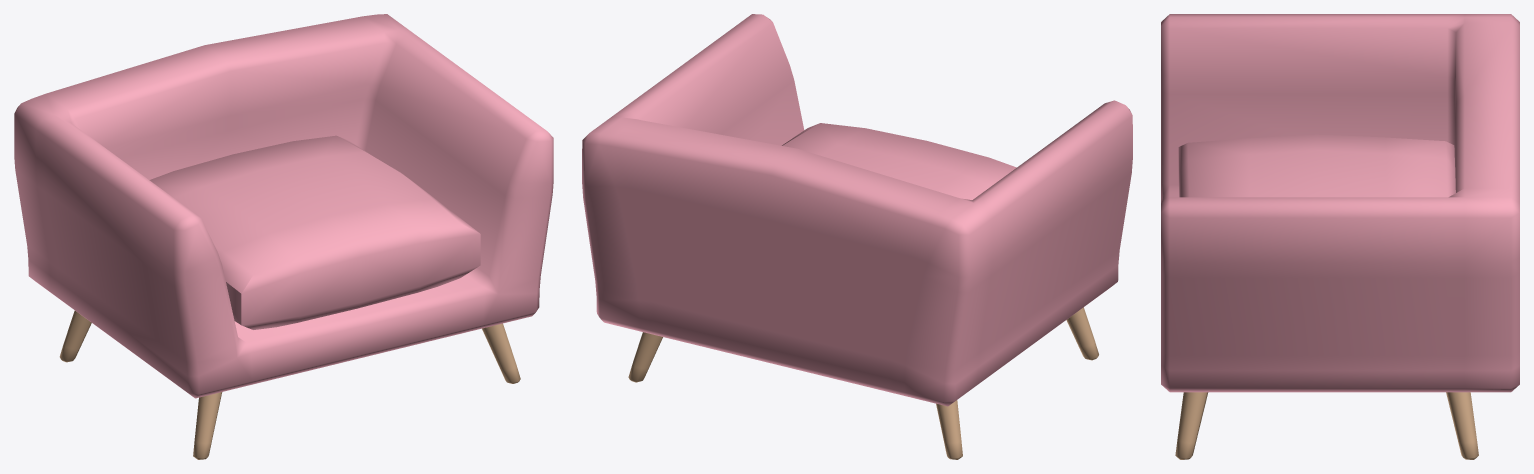
The model's file is couch-small.glb.
3 renders of one model, left to right at view 1: azimuth 30°, elevation 25°; view 2: azimuth 150°, elevation 25°; view 3: azimuth 270°, elevation 25°, orthographic. The views are drawn at different scales.
Parts seen in each view (by area): view 1: Couch_Small1; view 2: Couch_Small1; view 3: Couch_Small1.
Part boxes in pixels (x1,y1,x2,y2): Couch_Small1: (14, 14, 553, 459); Couch_Small1: (582, 14, 1132, 459); Couch_Small1: (1161, 14, 1519, 459).
Bounding box in the file's own units: 2.89 × 1.91 × 2.2.
